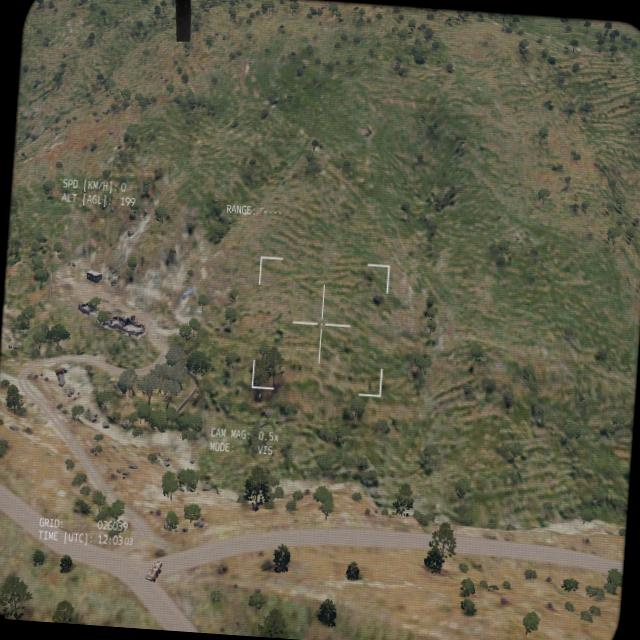apc: (142, 556, 162, 584)
